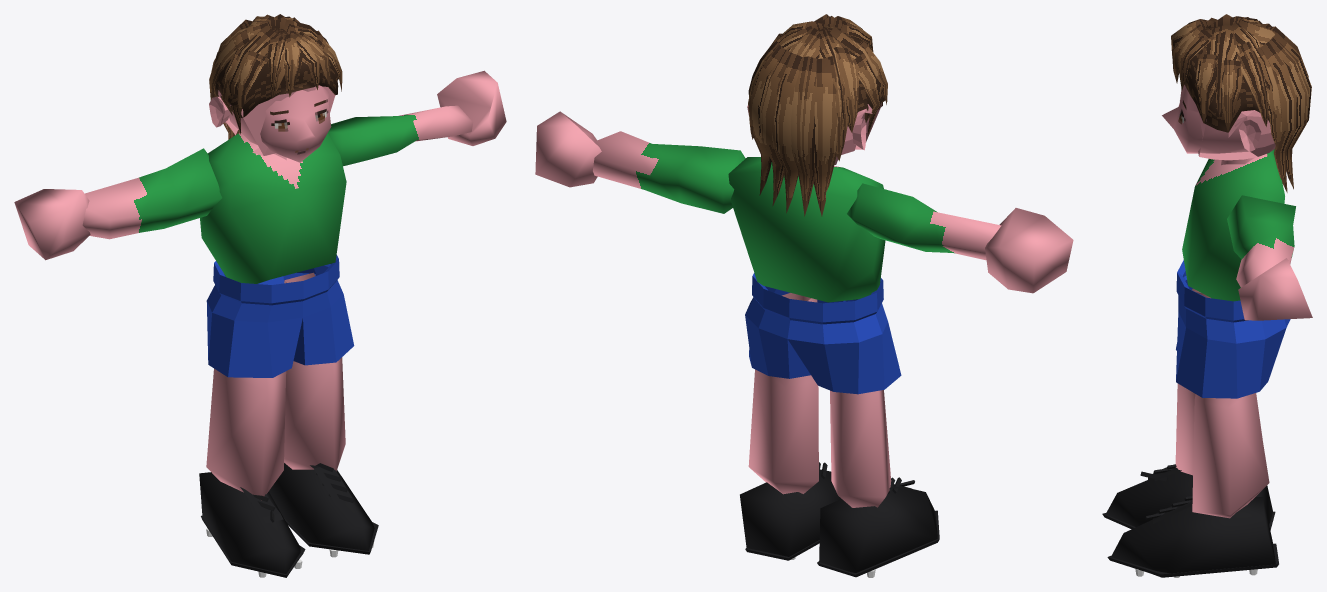
The model's file is 07-mullet_castanho.glb.
3 renders of one model, left to right at view 1: azimuth 30°, elevation 25°; view 2: azimuth 150°, elevation 25°; view 3: azimuth 270°, elevation 25°, orthographic. The views are drawn at different scales.
Visible parts, largest first — view 1: Camisa_Tronco, Bermuda, Cabelo, Perna.R, Braco.R, Perna.L, Chuteira.R, Chuteira.L, Braco.L, Mao.R, Cabeca, Mao.L (+3 smaller); view 2: Cabelo, Camisa_Tronco, Bermuda, Perna.L, Braco.L, Chuteira.R, Perna.R, Braco.R, Mao.R, Chuteira.L, Mao.L, Chuteira_Sola.R; view 3: Cabelo, Bermuda, Chuteira.L, Camisa_Tronco, Perna.L, Braco.L, Mao.L, Chuteira.R, Cabeca, Perna.R, Cranio, Chuteira_Sola.L (+3 smaller).
Boxes of the visible parts, x1,y1,x2,y2 form: Camisa_Tronco: (200,133,346,283); Bermuda: (206,255,354,377); Cabelo: (209,14,342,139); Perna.R: (206,368,286,500); Braco.R: (82,148,222,239); Perna.L: (284,272,345,471); Chuteira.R: (199,472,303,573); Chuteira.L: (269,463,374,550); Braco.L: (328,105,473,166); Mao.R: (14,189,90,260); Cabeca: (221,85,331,162); Mao.L: (437,70,506,145); Cabelo: (748,14,887,216); Camisa_Tronco: (728,157,885,302); Bermuda: (745,273,901,394); Perna.L: (748,293,818,494); Braco.L: (593,131,745,213); Chuteira.R: (819,484,937,572); Perna.R: (830,390,891,507); Braco.R: (847,183,1001,260); Mao.R: (985,208,1073,293); Chuteira.L: (740,469,841,556); Mao.L: (535,111,601,187); Chuteira_Sola.R: (817,510,939,577); Cabelo: (1171,14,1311,192); Bermuda: (1176,260,1290,398); Chuteira.L: (1111,497,1276,577); Camisa_Tronco: (1182,149,1284,301); Perna.L: (1192,393,1269,518); Braco.L: (1227,195,1295,287); Mao.L: (1238,258,1312,320); Chuteira.R: (1106,467,1272,526); Cabeca: (1162,85,1248,153); Perna.R: (1175,288,1262,475); Cranio: (1198,110,1275,160); Chuteira_Sola.L: (1107,543,1278,577).
Size of the model in its own units: 0.4523 by 0.4501 by 0.1617.
3 materials, 3 textured.
